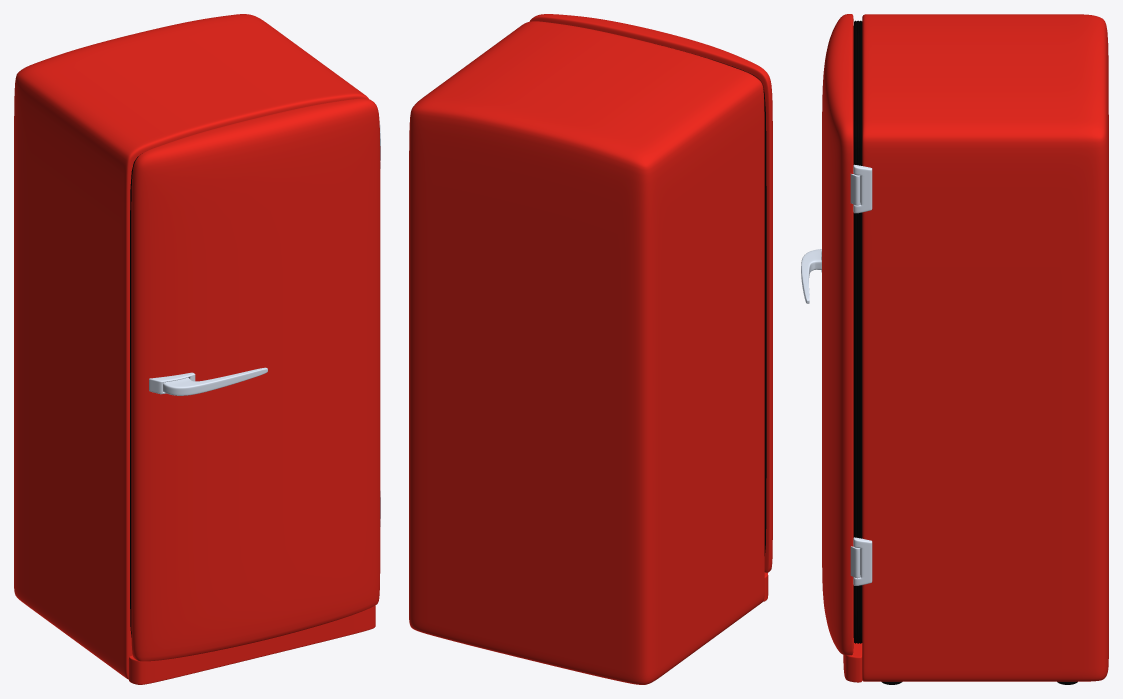
File: Fridge.glb
3 renders of one model, left to right at view 1: azimuth 30°, elevation 25°; view 2: azimuth 150°, elevation 25°; view 3: azimuth 270°, elevation 25°, orthographic. The views are drawn at different scales.
Visible parts, largest first — view 1: FRIDGE; view 2: FRIDGE; view 3: FRIDGE.
Part boxes in pixels (<box>): FRIDGE: <box>14,14,380,684</box>; FRIDGE: <box>409,14,772,684</box>; FRIDGE: <box>801,14,1108,684</box>.
Bounding box in the file's own units: 0.8208 × 1.71 × 0.8352.
